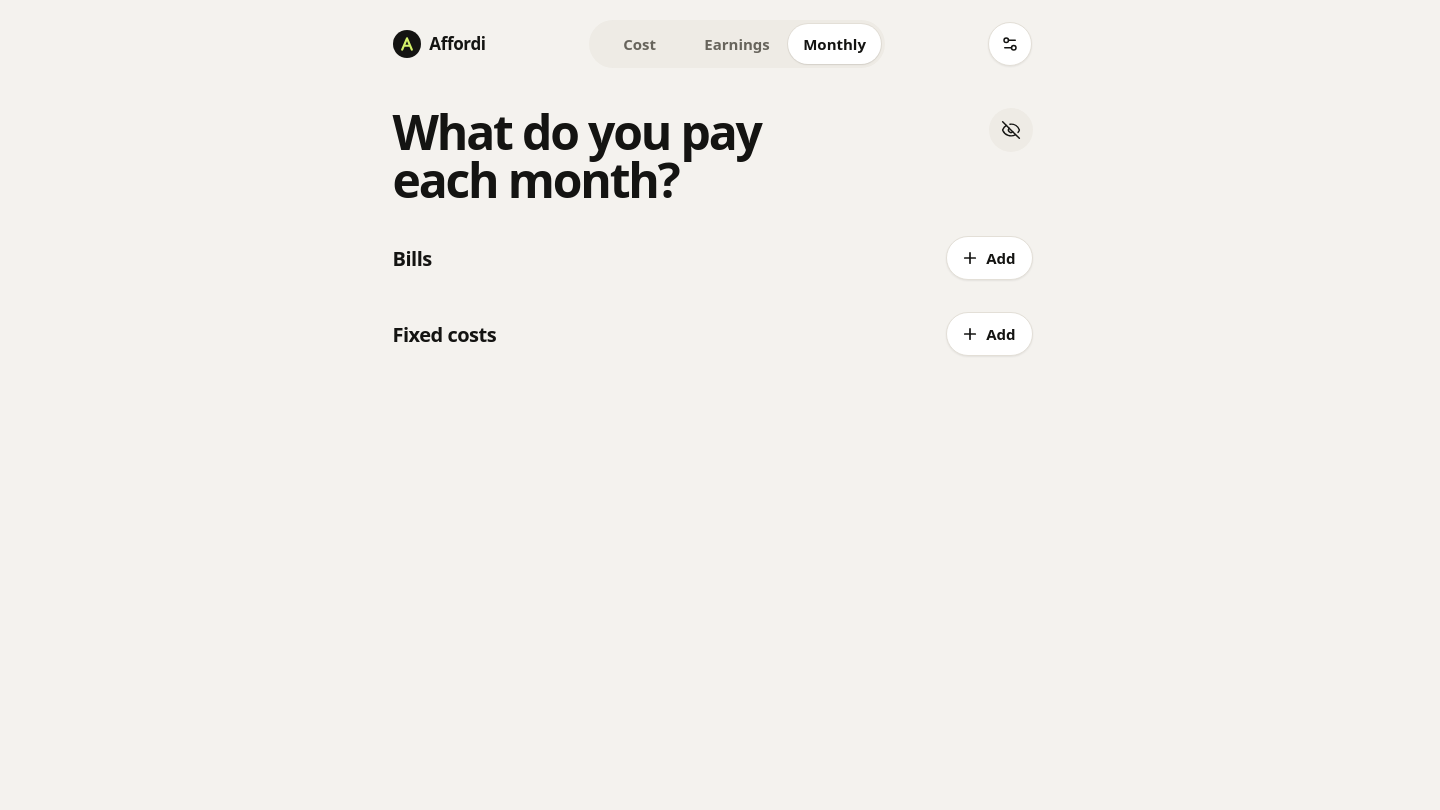
App › keeps fixed costs on the monthly page, saves them, and counts them on earnings
The width and height of the screenshot is (1440, 810).
Check: the heading "What do you pay each month?" is shown, box [392, 99, 761, 212]
Click the button with aria-label "Add fixed cost" at (989,334), box [946, 312, 1032, 356]
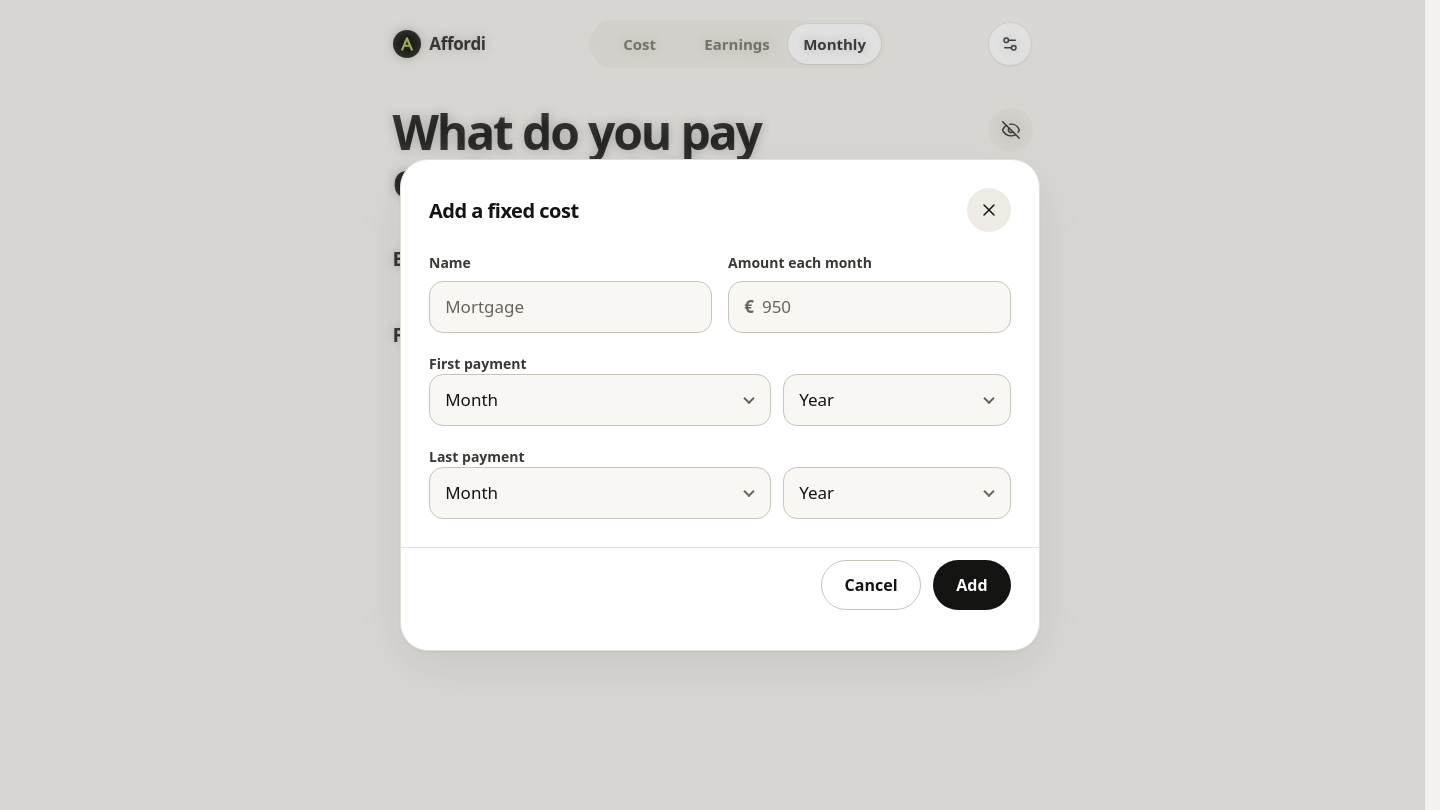
Type "Rent" into the field labelled "Name" at (570,307), box [429, 281, 712, 333]
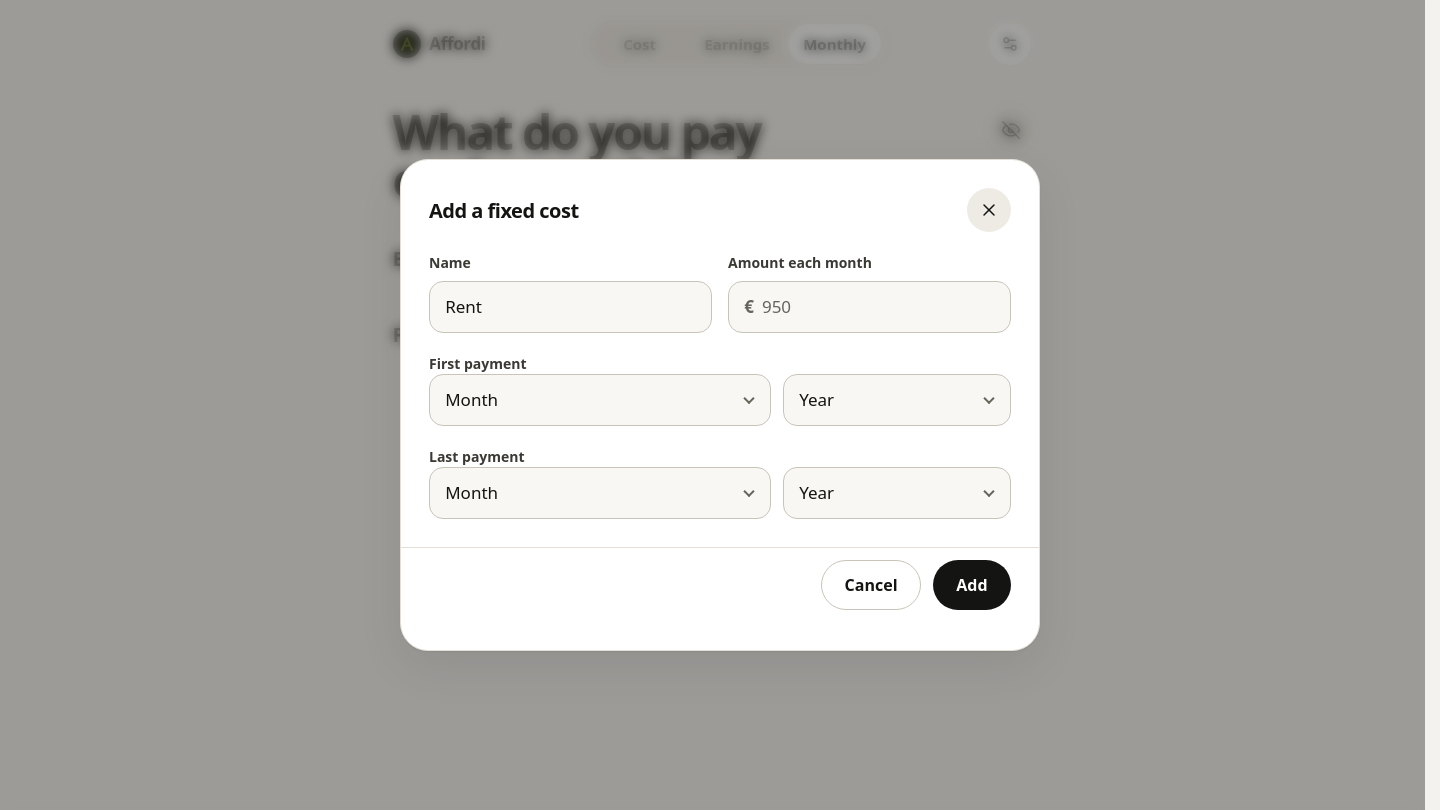
Type "900" into the field labelled "Amount each month" at (884,307), box [762, 283, 1005, 331]
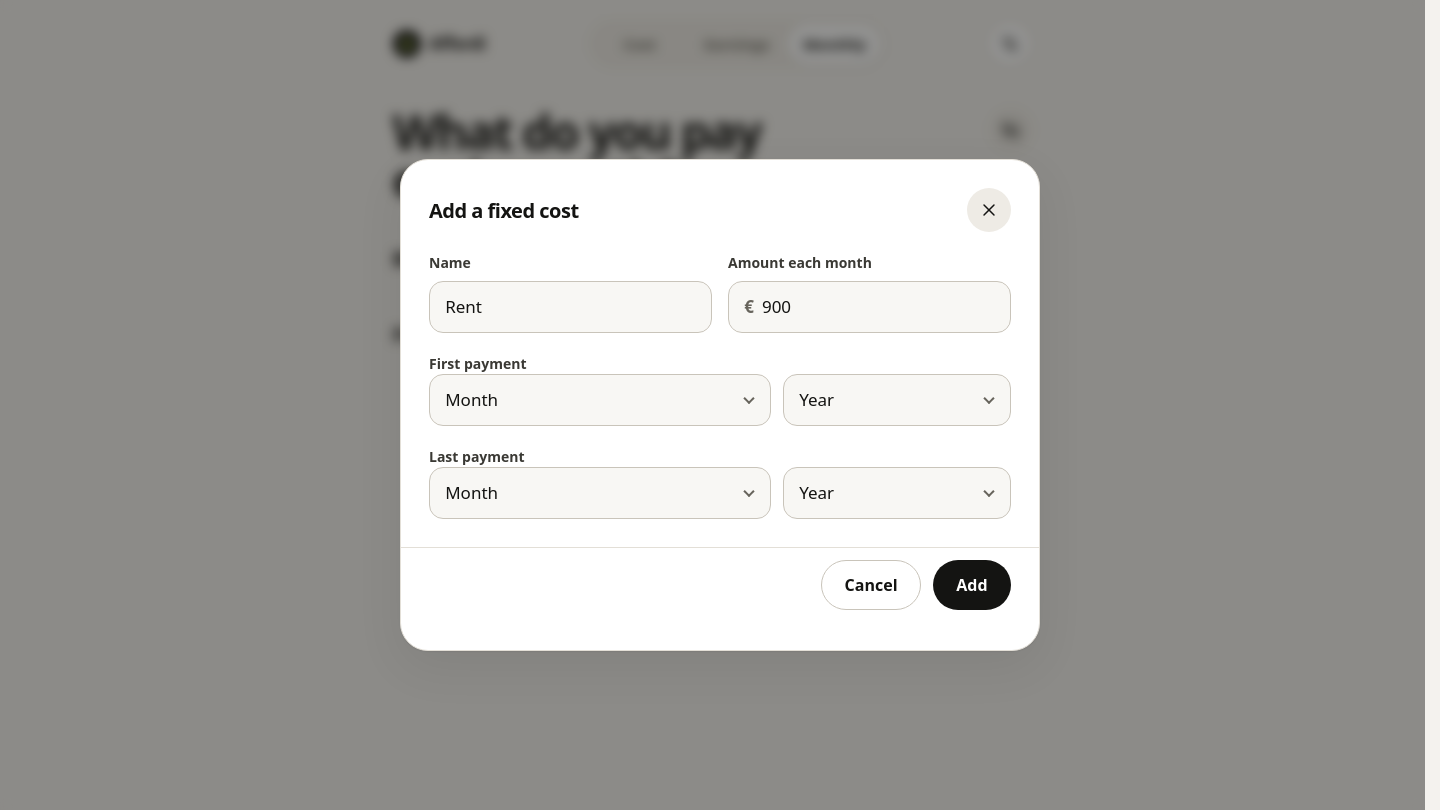
Click the button "Add" at (972,585), box [933, 560, 1011, 610]
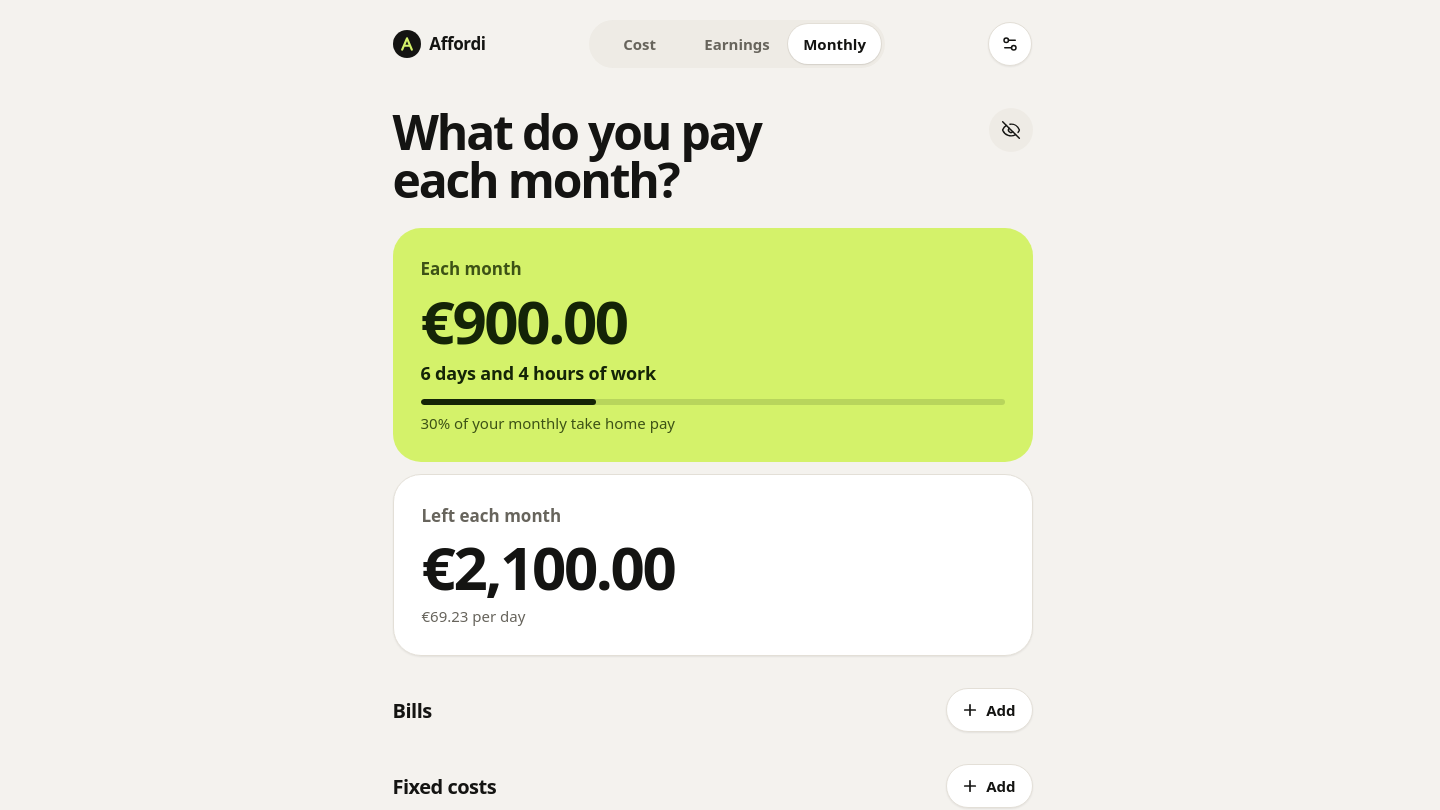
Click the link "Earnings" at (737,44), box [704, 34, 770, 54]
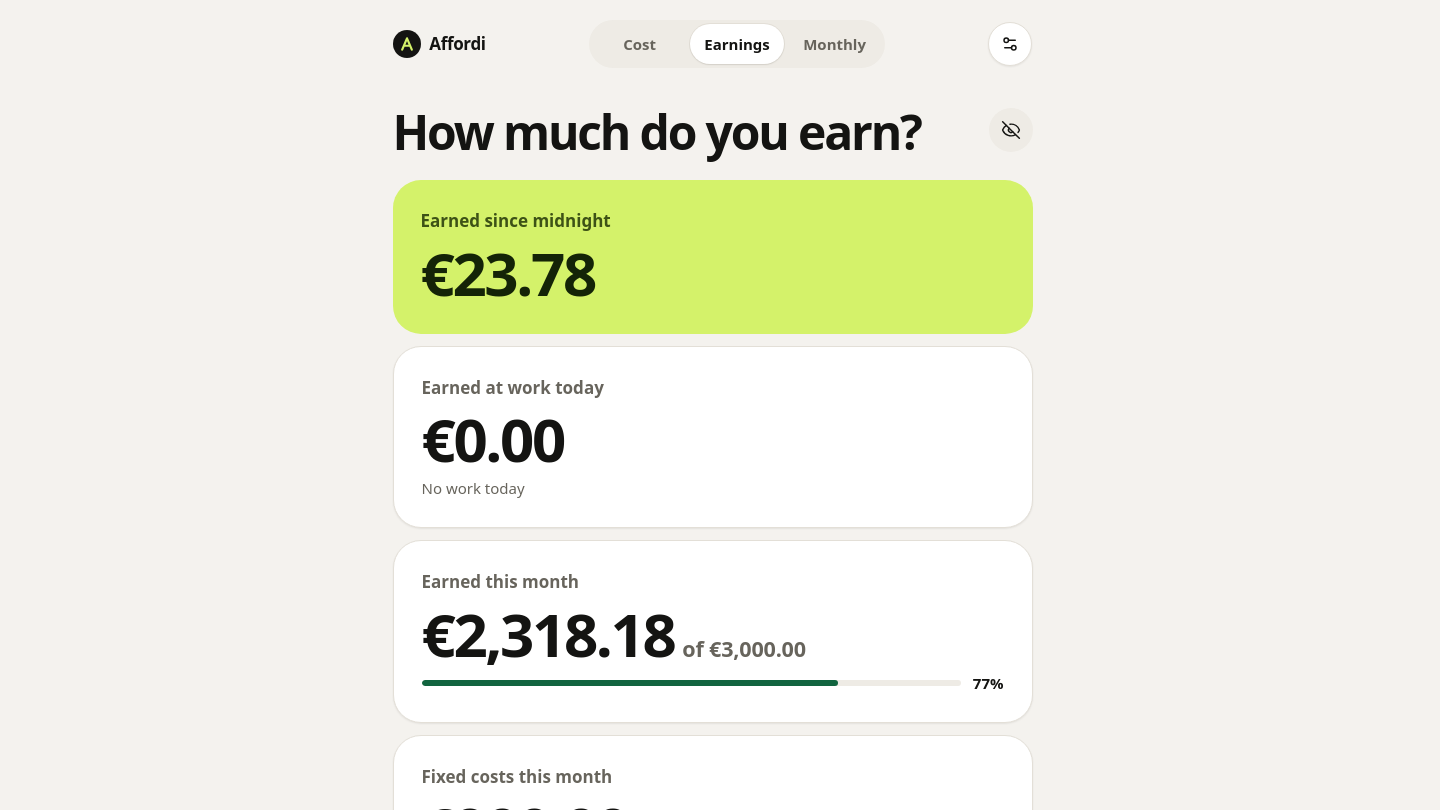
Check: the text "Fixed costs this month" is shown, box [422, 764, 612, 788]
